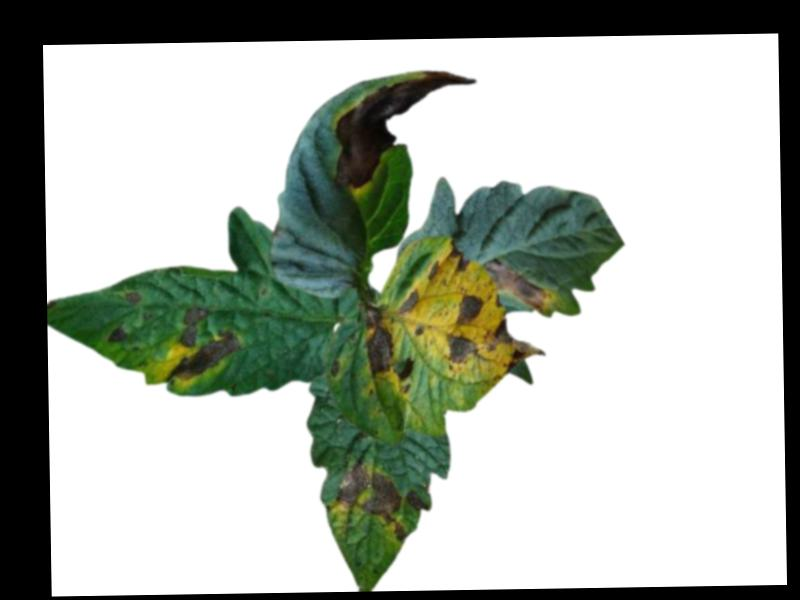Early_blight: (332, 68, 478, 188), (333, 459, 408, 543), (164, 304, 240, 382), (483, 254, 554, 313), (481, 317, 544, 374), (361, 300, 395, 376), (446, 330, 477, 366), (456, 291, 482, 324), (398, 287, 422, 314), (446, 244, 468, 273), (406, 488, 429, 513), (107, 322, 129, 343), (426, 258, 442, 278), (124, 289, 143, 302), (330, 357, 341, 377), (413, 324, 424, 338)
